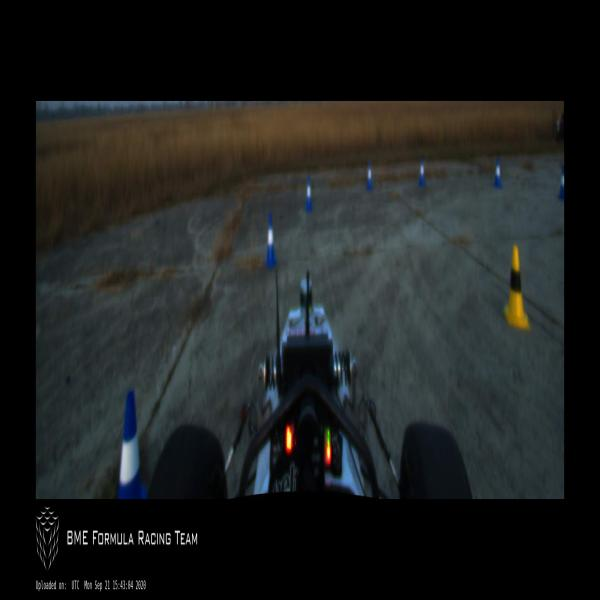blue_cone: (117, 390, 148, 498), (264, 212, 278, 267), (304, 177, 313, 212), (494, 156, 502, 187), (557, 166, 564, 200), (418, 157, 426, 186), (366, 162, 372, 190)
yellow_cone: (504, 246, 530, 329)
